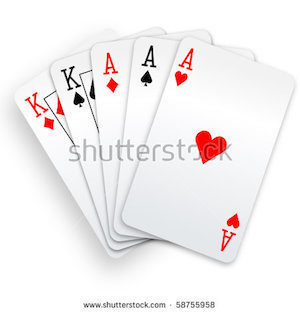AceOfDiamonds: (94, 43, 133, 228)
AceOfHearts: (161, 33, 297, 267)
AceOfSpades: (127, 30, 175, 173)
KingOfDiamonds: (9, 77, 73, 187)
KingOfSpades: (49, 52, 106, 229)
